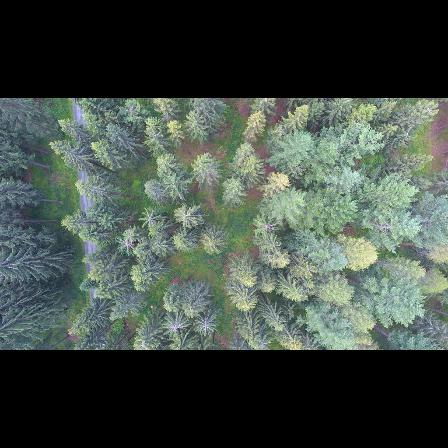Sick: (195, 305, 217, 340), (163, 312, 188, 337), (145, 121, 166, 146), (140, 206, 161, 228), (257, 214, 278, 235), (398, 124, 420, 144)
